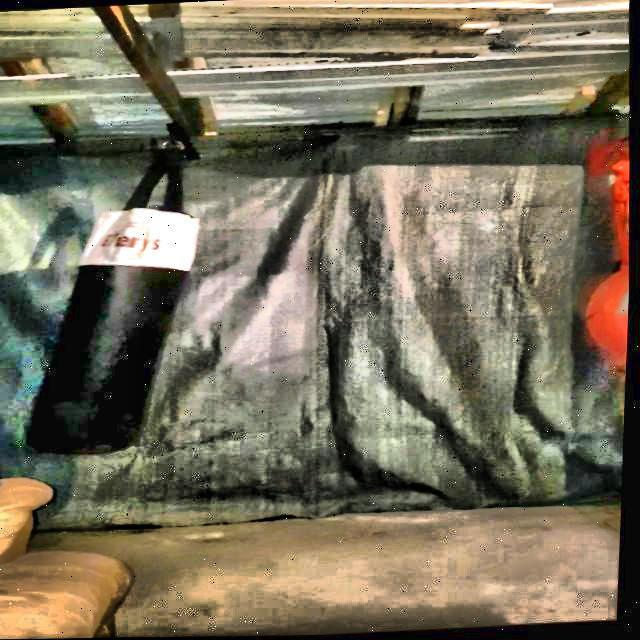boxing-bag: (24, 120, 214, 460)
